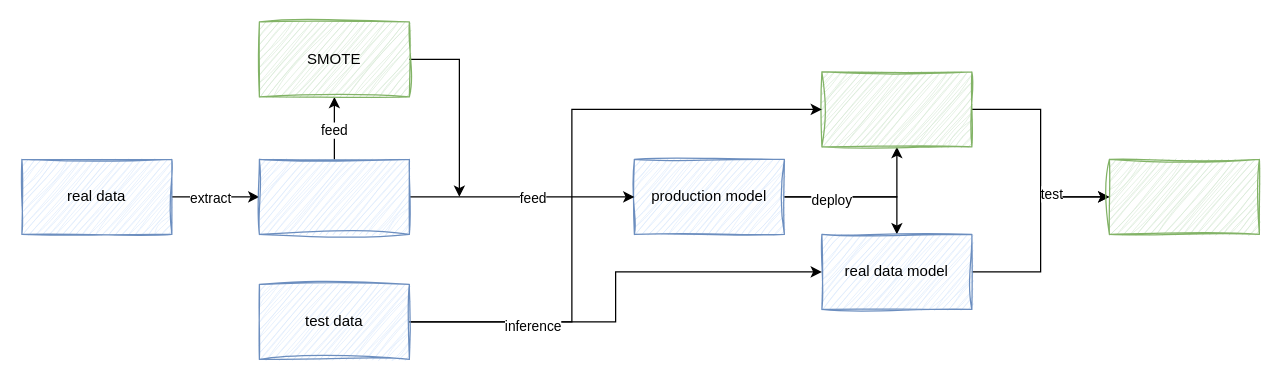
Image size: 1281x381. Some labels were removed from this diagram. The shapes that lost their labels are listed below. From the top down, each one's centre as x and y in pixels, then its label:
At [896,109]: "syntehtic data model".
At [333,196]: "feature extraction".
At [1183,196]: "evaluation".
